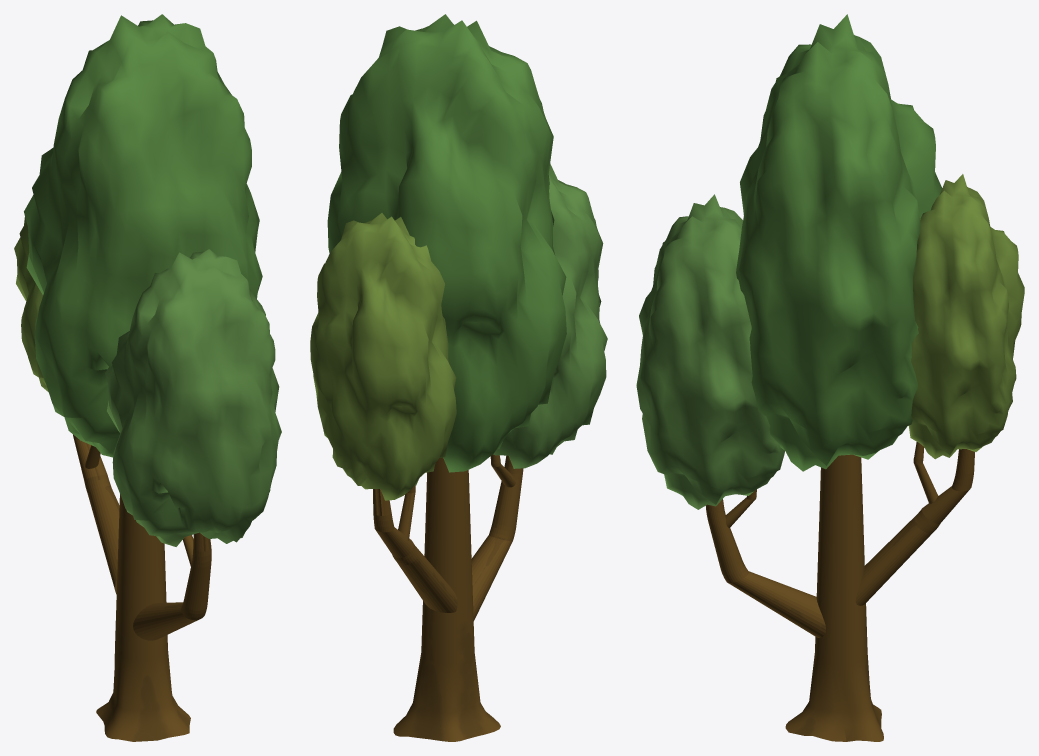
Rendered from TREE03.fbx.
3 views of the same model, side by side, from view 1: azimuth 30°, elevation 25°; view 2: azimuth 150°, elevation 25°; view 3: azimuth 270°, elevation 25° (orthographic).
Parts seen in each view (by area): view 1: 1, 1.001, Cylinder, 1.002; view 2: 1, 1.002, Cylinder, 1.001; view 3: 1, 1.001, 1.002, Cylinder.
Part boxes in pixels (x1,y1,x2,y2): 1: (24, 14, 262, 457); 1.001: (105, 249, 281, 546); Cylinder: (73, 434, 211, 741); 1.002: (14, 217, 48, 391); 1: (327, 14, 566, 472); 1.002: (310, 213, 456, 500); Cylinder: (373, 454, 523, 741); 1.001: (493, 163, 607, 468); 1: (736, 14, 942, 471); 1.001: (636, 194, 784, 509); 1.002: (909, 174, 1024, 459); Cylinder: (706, 442, 974, 741).
Size of the model in its own units: 45.41 by 141 by 70.26.
4 materials, 4 textured.
